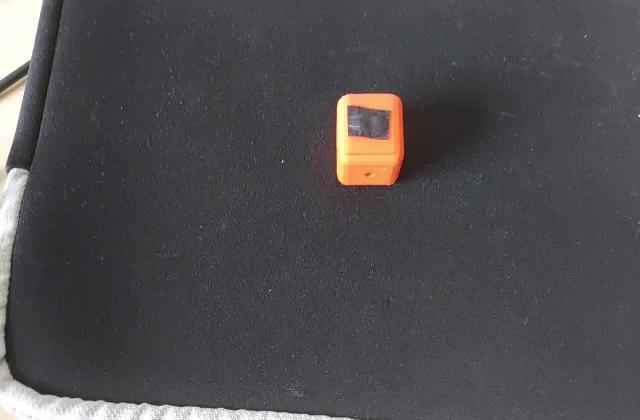black: (342, 103, 397, 144)
sticker: (331, 87, 410, 190)
